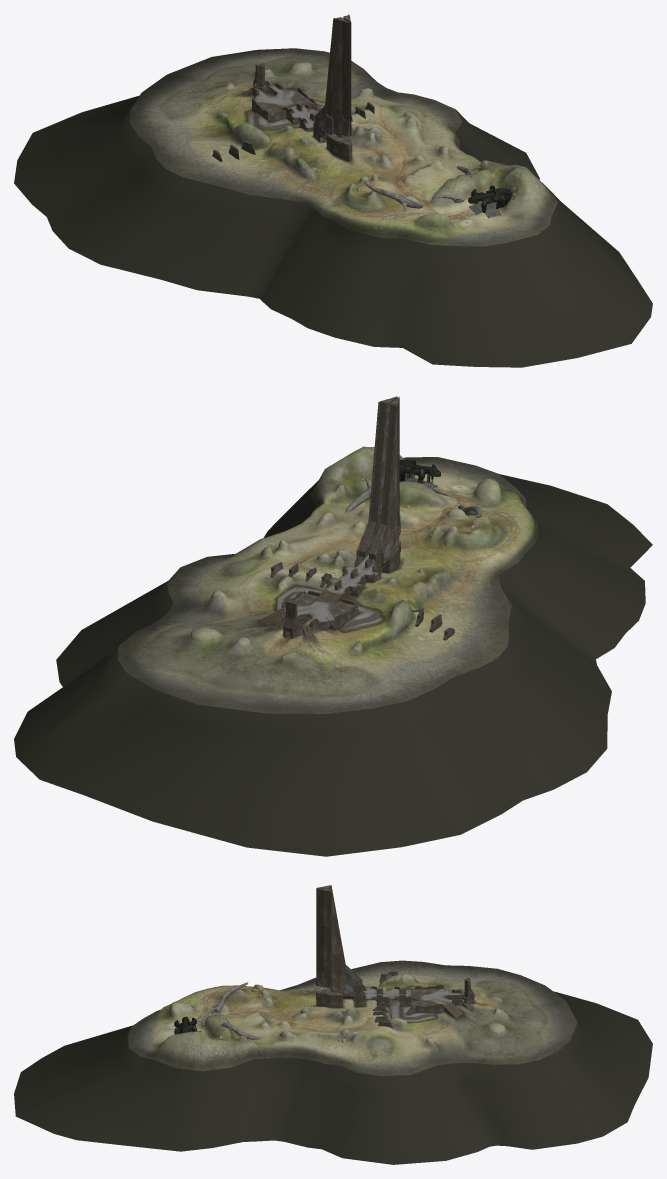
The model's file is halo2map.glb.
3 views of the same model, one above another, from view 1: azimuth 30°, elevation 25°; view 2: azimuth 150°, elevation 25°; view 3: azimuth 270°, elevation 25° (orthographic). The views are drawn at different scales.
Visible parts, largest first — view 1: Object_9, Object_7, Object_5, Object_6, Object_11, Object_8, Object_3, Object_2; view 2: Object_9, Object_7, Object_5, Object_8, Object_6; view 3: Object_9, Object_7, Object_5, Object_6, Object_8, Object_11, Object_2.
Part boxes in pixels (x1,y1,x2,y2): Object_9: (14, 69, 652, 367); Object_7: (129, 48, 557, 246); Object_5: (212, 14, 374, 161); Object_6: (247, 84, 325, 128); Object_11: (341, 20, 351, 121); Object_8: (213, 66, 374, 161); Object_3: (468, 185, 511, 212); Object_2: (364, 166, 480, 211); Object_9: (14, 474, 652, 856); Object_7: (117, 446, 538, 713); Object_5: (268, 396, 454, 640); Object_8: (270, 402, 450, 640); Object_6: (276, 555, 382, 631); Object_9: (14, 991, 652, 1164); Object_7: (128, 960, 577, 1075); Object_5: (316, 885, 474, 1027); Object_6: (363, 986, 465, 1021); Object_8: (330, 886, 468, 1027); Object_11: (316, 889, 474, 996); Object_2: (198, 982, 262, 1039).
Size of the model in its own units: 364 by 171 by 537.
Materials: 13 (13 with a texture image).
